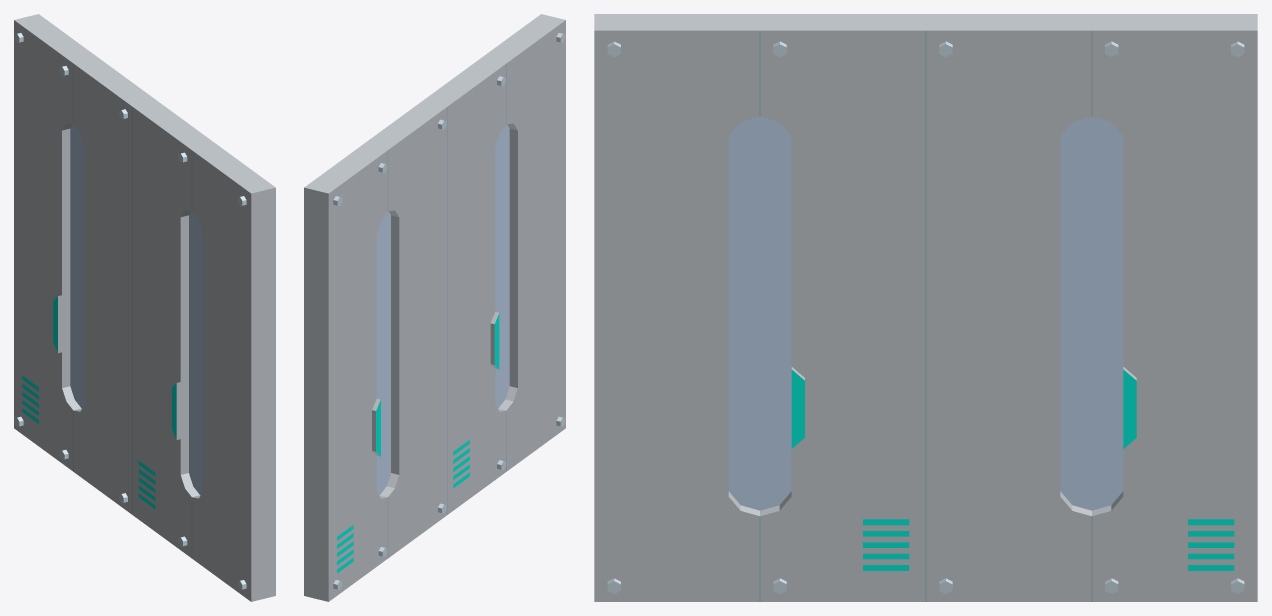
The model's file is window-01.fbx.
The picture shows the model from 3 angles, left to right: view 1: azimuth 30°, elevation 25°; view 2: azimuth 150°, elevation 25°; view 3: azimuth 270°, elevation 25°; orthographic projection. The views are drawn at different scales.
Visible parts, largest first — view 1: window-01; view 2: window-01; view 3: window-01.
Boxes of the visible parts, <box> form: window-01: <box>14,14,275,601</box>; window-01: <box>304,14,565,601</box>; window-01: <box>594,14,1257,601</box>.
Size of the model in its own units: 8 by 95 by 100.
